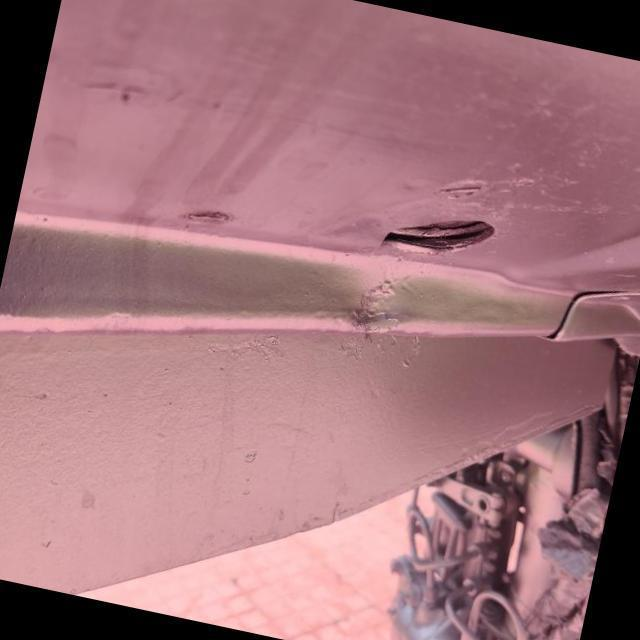Dent: (316, 250, 426, 360)
